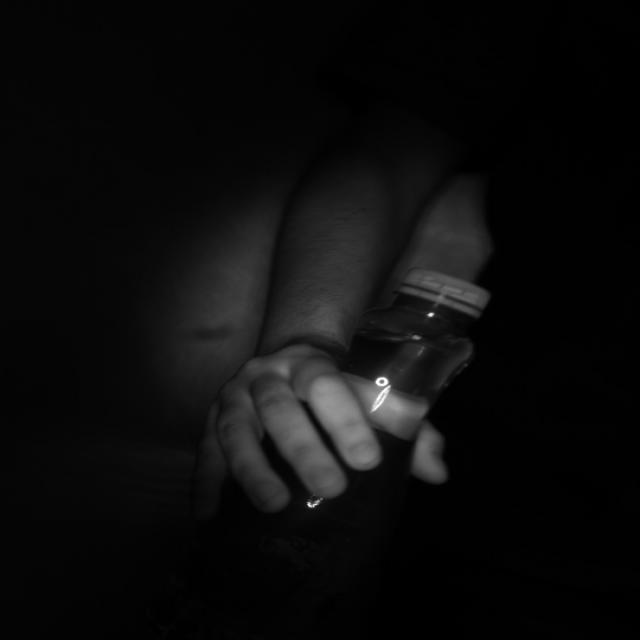Not Good: (399, 268, 492, 317)
